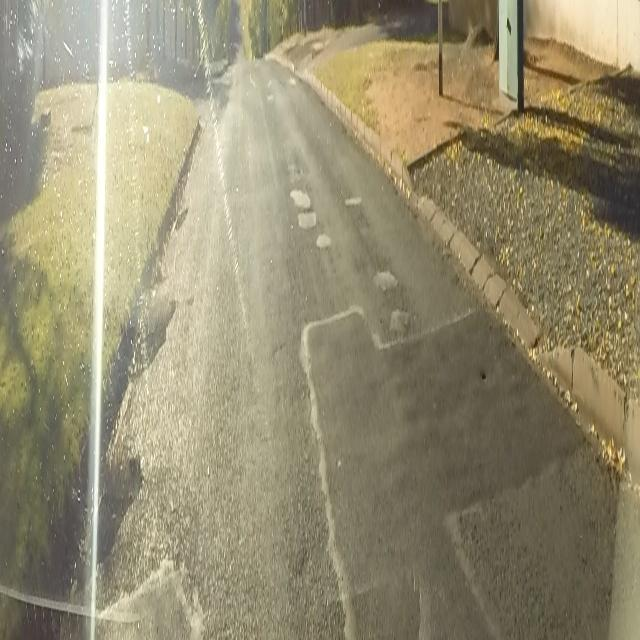pothole: (136, 298, 177, 378), (95, 460, 144, 518), (174, 204, 190, 228)
